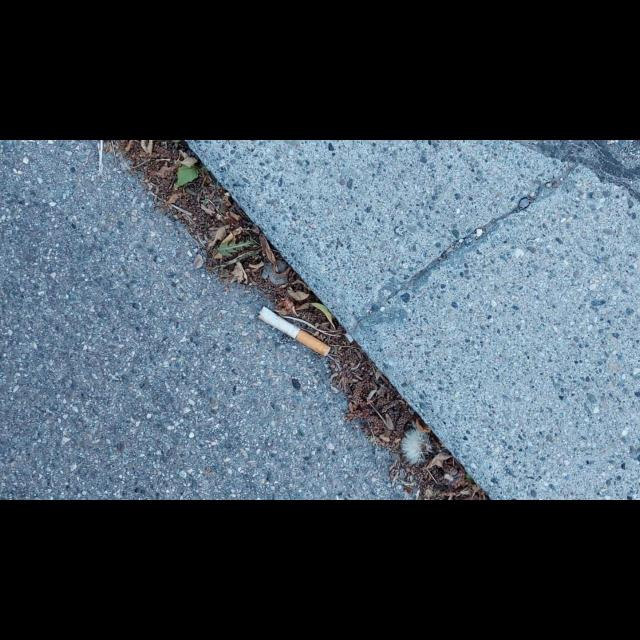cigarette: (257, 305, 331, 357)
